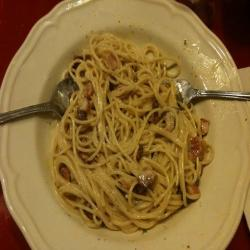carbonara: (38, 32, 220, 237)
